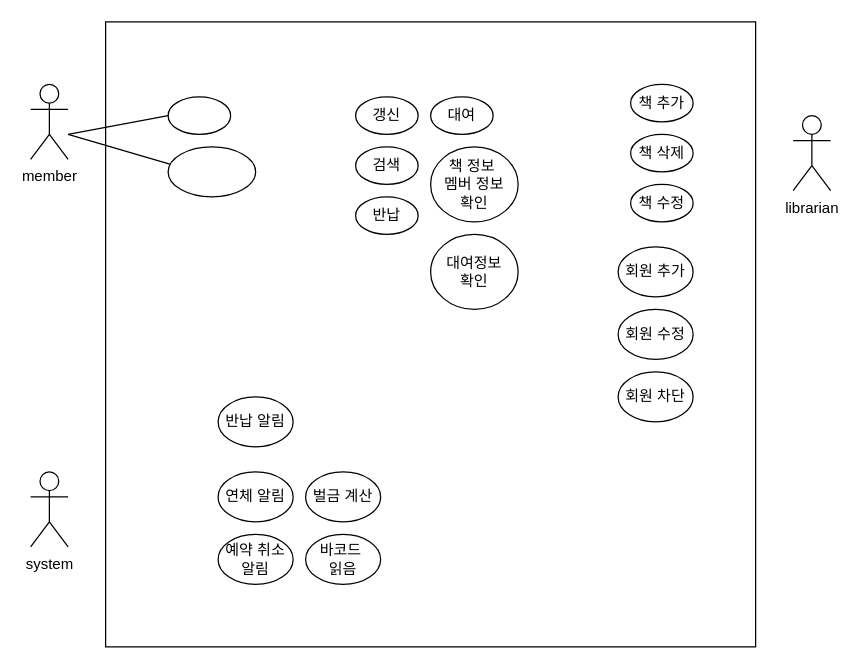
Some shapes in this 860 by 669 pixel diagram are drawn without their labels. Here are the shapes that lost their labels. From the top down, the box of each, then its label:
(167, 96, 231, 134): 예약
(167, 146, 256, 197): 예약 취소
